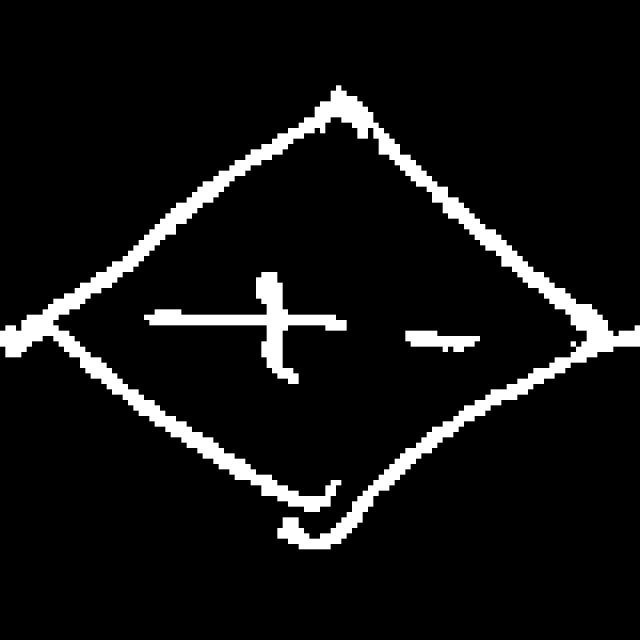dependant_voltage: (35, 84, 612, 552)
